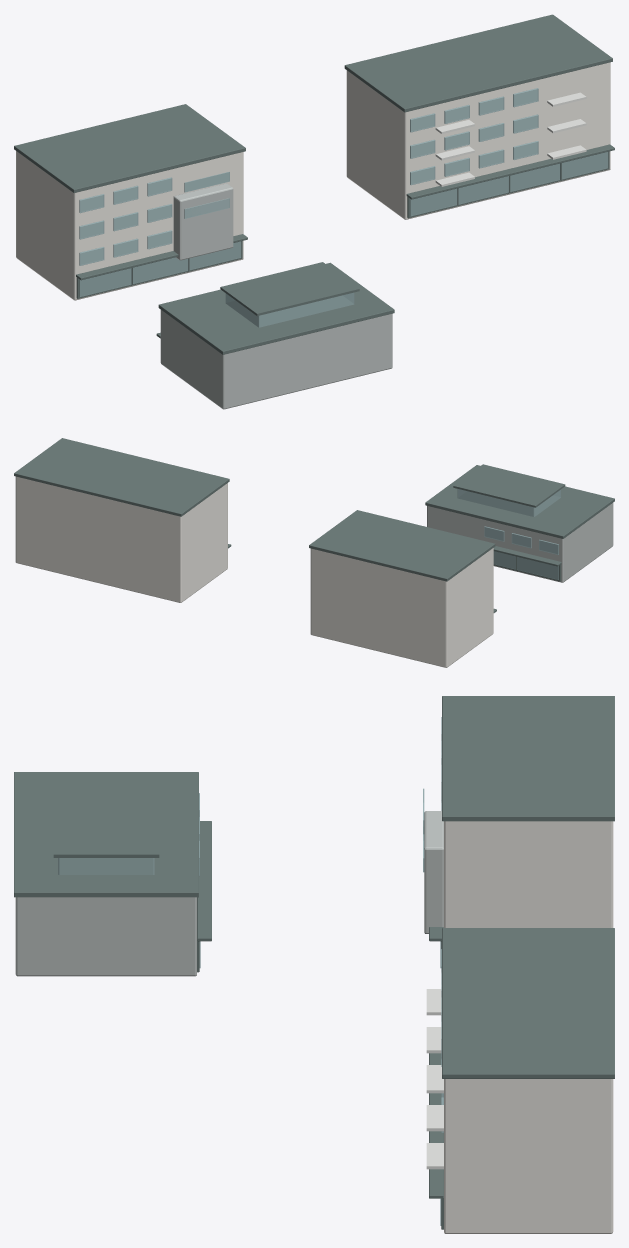
File: xingfuli-center-massing-v2.glb
The picture shows the model from 3 angles, top to bottom: view 1: azimuth 30°, elevation 25°; view 2: azimuth 150°, elevation 25°; view 3: azimuth 270°, elevation 25°; orthographic projection. The views are drawn at different scales.
Parts seen in each view (by area): view 1: xingfuli-center-massing-v2; view 2: xingfuli-center-massing-v2; view 3: xingfuli-center-massing-v2.
Boxes of the visible parts, x1=… form: xingfuli-center-massing-v2: x1=14, y1=14, x2=614, y2=409; xingfuli-center-massing-v2: x1=14, y1=438, x2=614, y2=667; xingfuli-center-massing-v2: x1=14, y1=696, x2=614, y2=1233.
Size of the model in its own units: 44.43 by 8.84 by 29.83.
